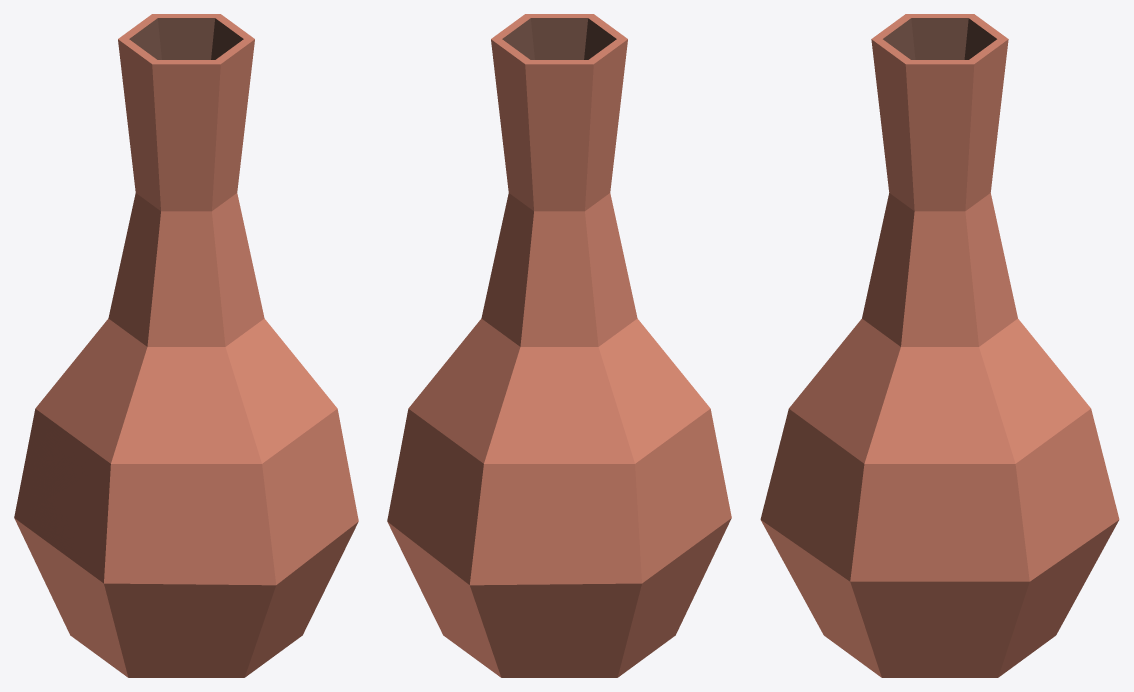
File: props_059.glb
3 views of the same model, side by side, from view 1: azimuth 30°, elevation 25°; view 2: azimuth 150°, elevation 25°; view 3: azimuth 270°, elevation 25° (orthographic).
Parts seen in each view (by area): view 1: props_059; view 2: props_059; view 3: props_059.
Boxes of the visible parts, x1,y1,x2,y2 form: props_059: [14, 14, 358, 677]; props_059: [387, 14, 731, 677]; props_059: [760, 14, 1119, 677].
Bounding box in the file's own units: 0.6783 × 1.52 × 0.8272.
1 material, 1 textured.
